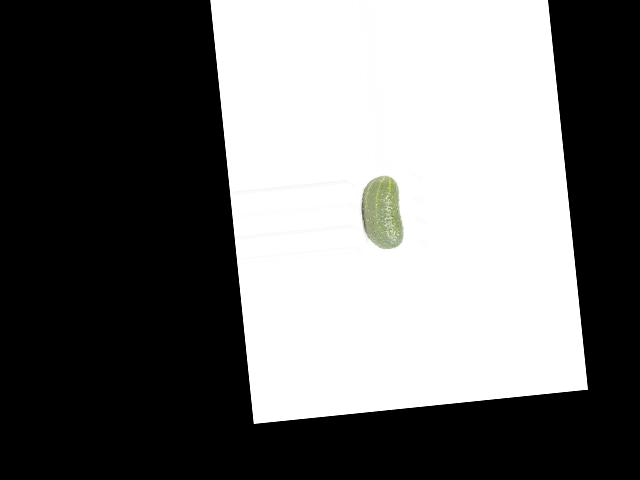cucumber: (358, 174, 404, 251)
